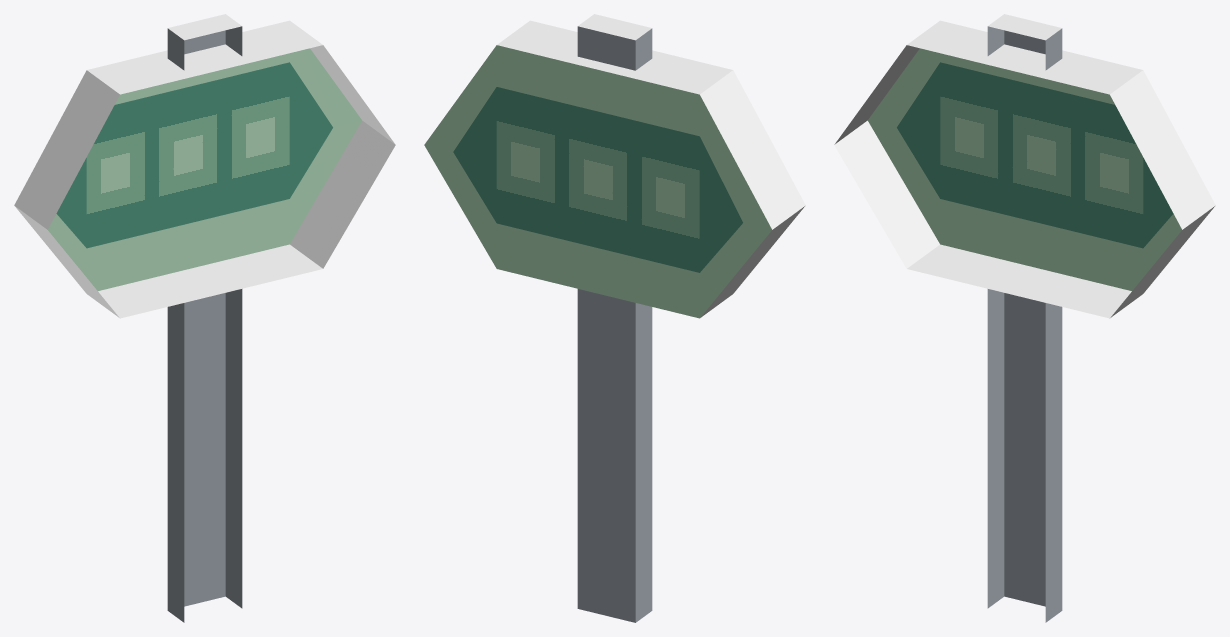
File: sign_route.glb
The picture shows the model from 3 angles, left to right: view 1: azimuth 30°, elevation 25°; view 2: azimuth 150°, elevation 25°; view 3: azimuth 330°, elevation 25°; orthographic projection.
Parts seen in each view (by area): view 1: sign_route; view 2: sign_route; view 3: sign_route.
Part boxes in pixels (x1,y1,x2,y2): sign_route: [14, 14, 395, 622]; sign_route: [424, 14, 805, 622]; sign_route: [834, 14, 1215, 622].
Bounding box in the file's own units: 1.5 × 2.4 × 0.25.
2 materials, 2 textured.
